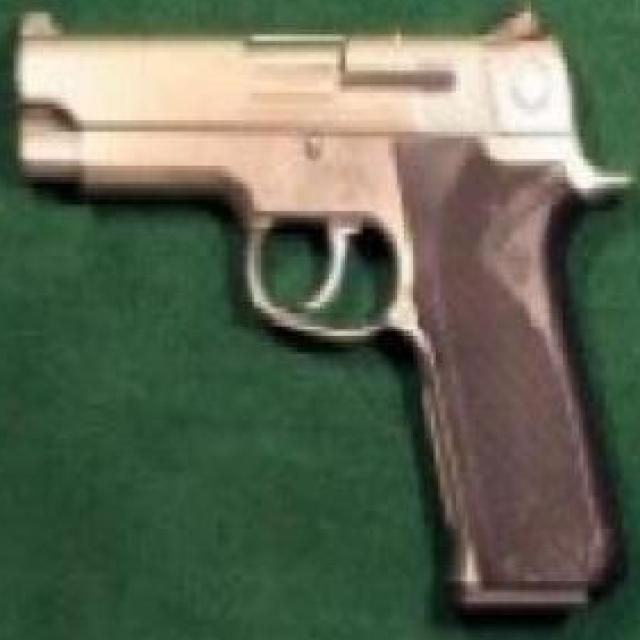pistol: (15, 7, 640, 602)
